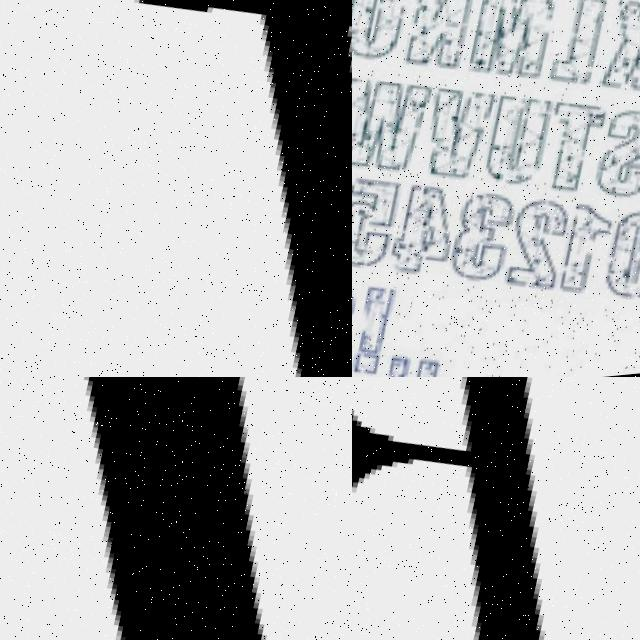0: (596, 211, 640, 312)
1: (557, 209, 610, 303)
2: (506, 197, 574, 298)
3: (448, 188, 522, 293)
4: (387, 185, 457, 288)
5: (352, 173, 399, 276)
F: (352, 377, 541, 640)
J: (0, 377, 352, 640)
T: (20, 0, 352, 377)
